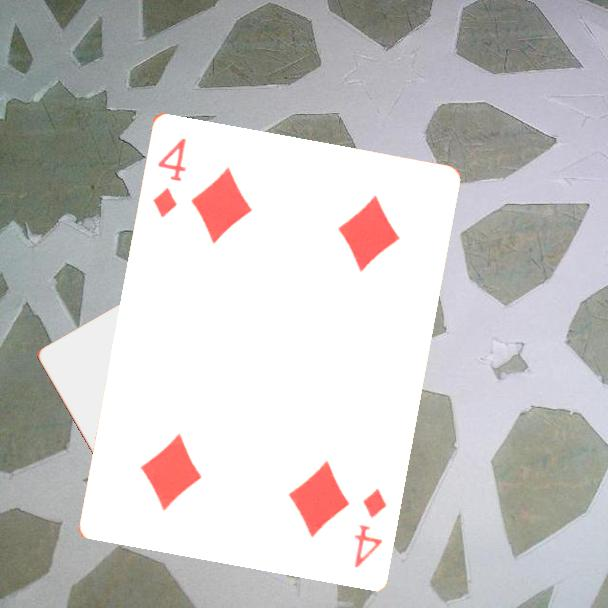d04: (149, 134, 189, 220), (350, 484, 389, 571)
